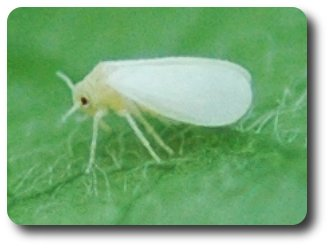Tobacco Whitefly: (34, 59, 263, 174)
